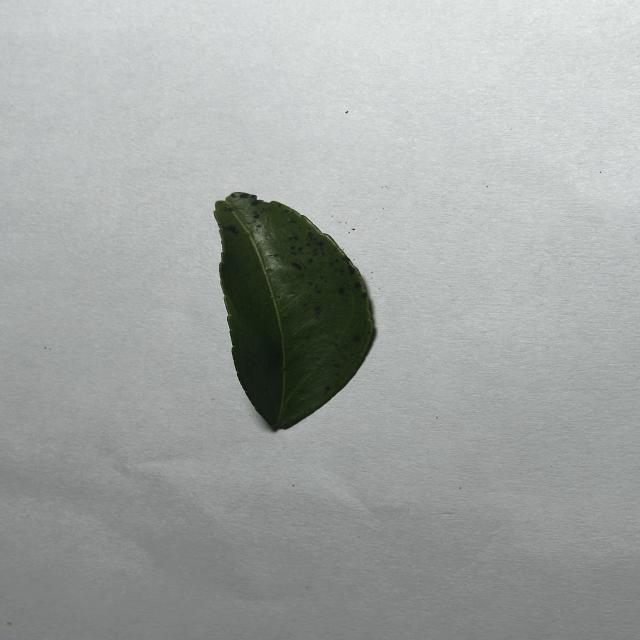sooty_mold: (215, 193, 373, 428)
